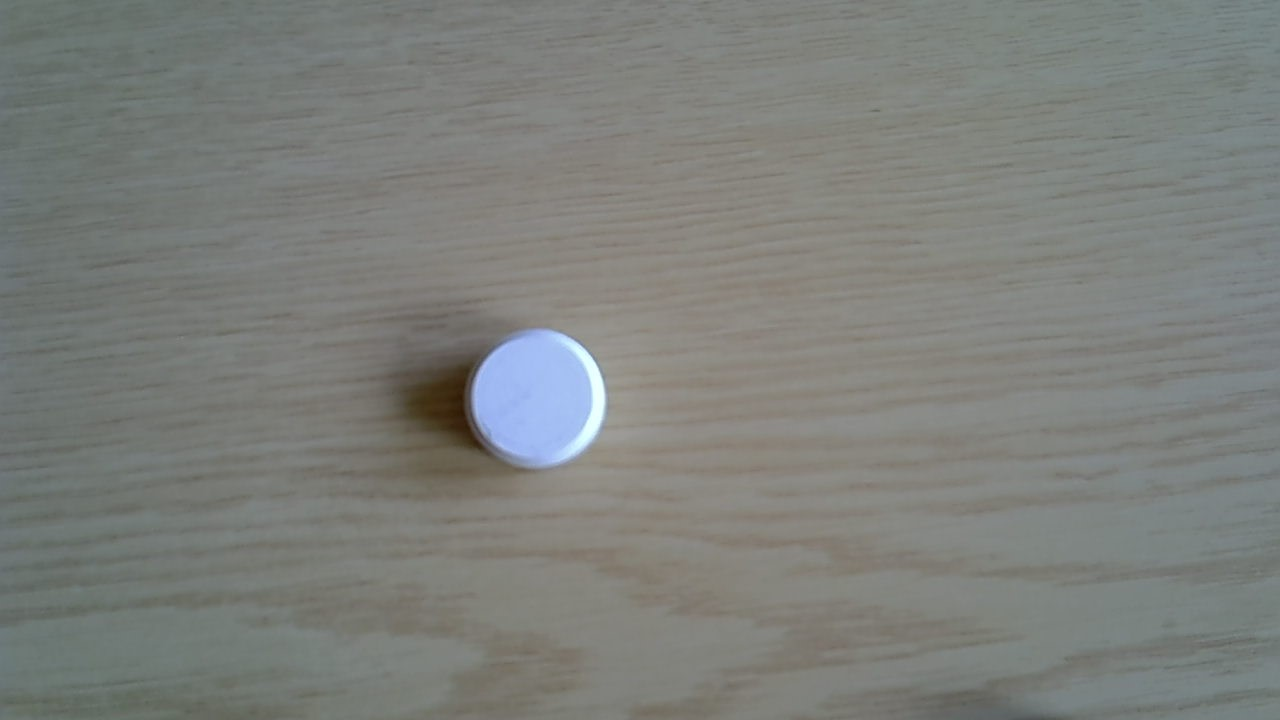WerkStueck: (461, 326, 612, 472)
